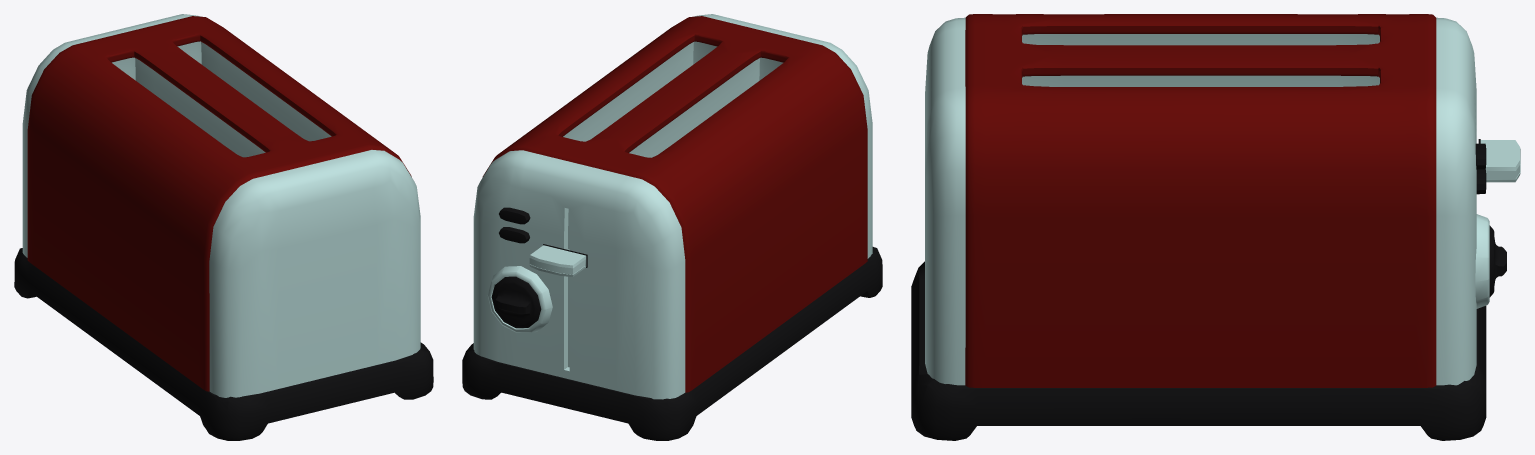
Rendered from Toaster1.fbx.
The picture shows the model from 3 angles, left to right: view 1: azimuth 30°, elevation 25°; view 2: azimuth 150°, elevation 25°; view 3: azimuth 270°, elevation 25°; orthographic projection. The views are drawn at different scales.
Parts seen in each view (by area): view 1: Toaster1; view 2: Toaster1, ToasterKnob1, ToasterLever1; view 3: Toaster1, ToasterLever1, ToasterKnob1.
Boxes of the visible parts, x1=… form: Toaster1: x1=14, y1=14, x2=433, y2=440; Toaster1: x1=462, y1=14, x2=882, y2=440; ToasterKnob1: x1=491, y1=276, x2=541, y2=328; ToasterLever1: x1=529, y1=244, x2=587, y2=277; Toaster1: x1=911, y1=14, x2=1489, y2=440; ToasterLever1: x1=1478, y1=139, x2=1520, y2=182; ToasterKnob1: x1=1489, y1=225, x2=1506, y2=297.
Size of the model in its own units: 130 by 137 by 239.
